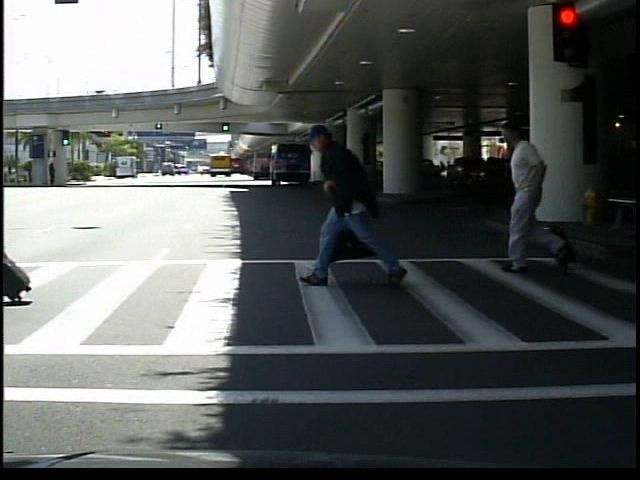person: (307, 116, 394, 289), (501, 112, 566, 270)
